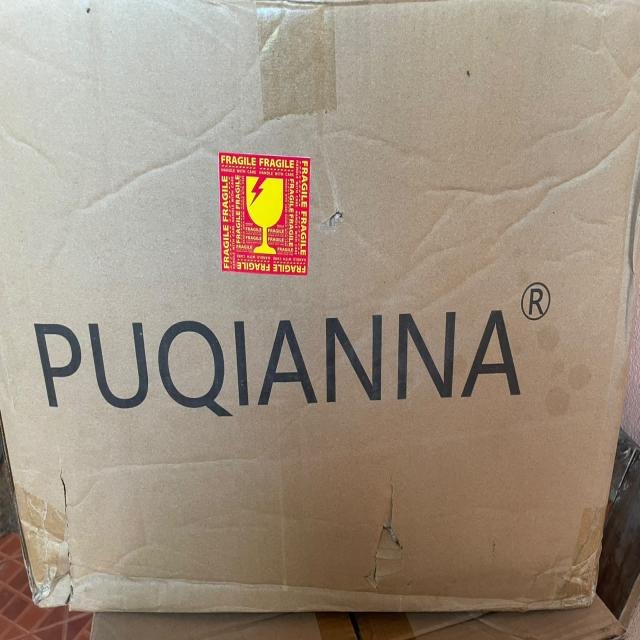carton_box: (0, 0, 640, 630)
fragile_label: (212, 127, 324, 295)
package_damage: (6, 456, 142, 638), (327, 451, 436, 623), (532, 516, 625, 616)
